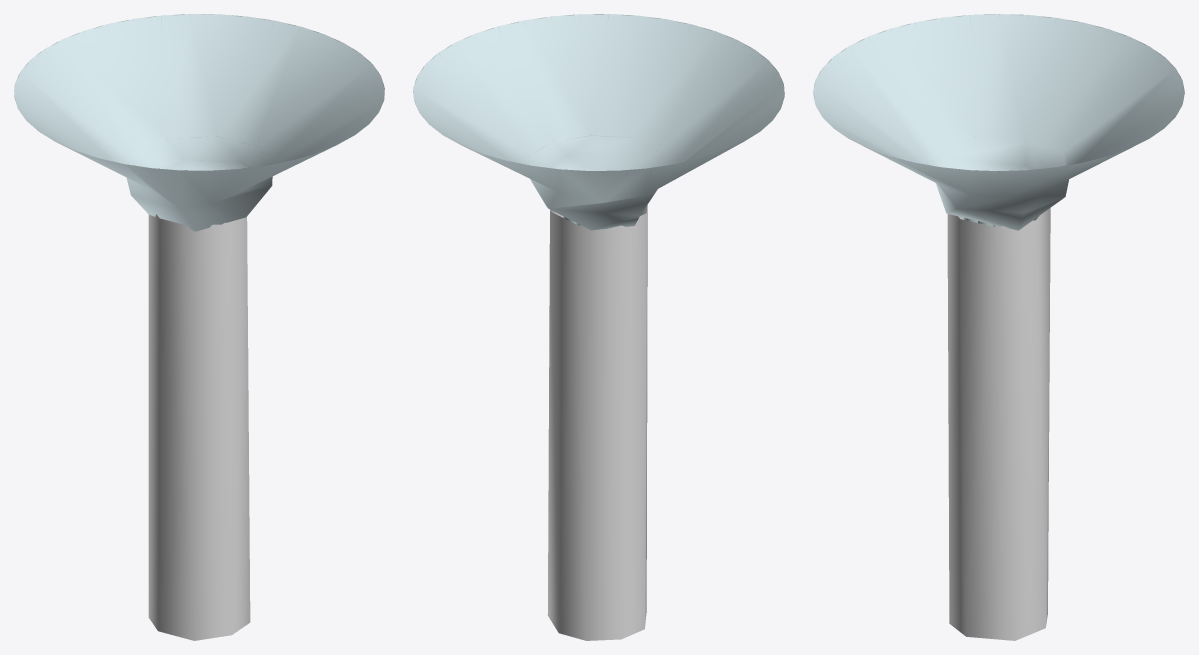
Rendered from rotor_glass.obj.
3 renders of one model, left to right at view 1: azimuth 30°, elevation 25°; view 2: azimuth 150°, elevation 25°; view 3: azimuth 270°, elevation 25°, orthographic.
Visible parts, largest first — view 1: 6.Rotor_Glass; view 2: 6.Rotor_Glass; view 3: 6.Rotor_Glass.
Boxes of the visible parts, x1=… form: 6.Rotor_Glass: x1=14, y1=14, x2=384, y2=640; 6.Rotor_Glass: x1=413, y1=14, x2=784, y2=640; 6.Rotor_Glass: x1=813, y1=14, x2=1184, y2=640.
Size of the model in its own units: 2.72 by 4.25 by 2.72.
Materials: 1 (1 with a texture image).
